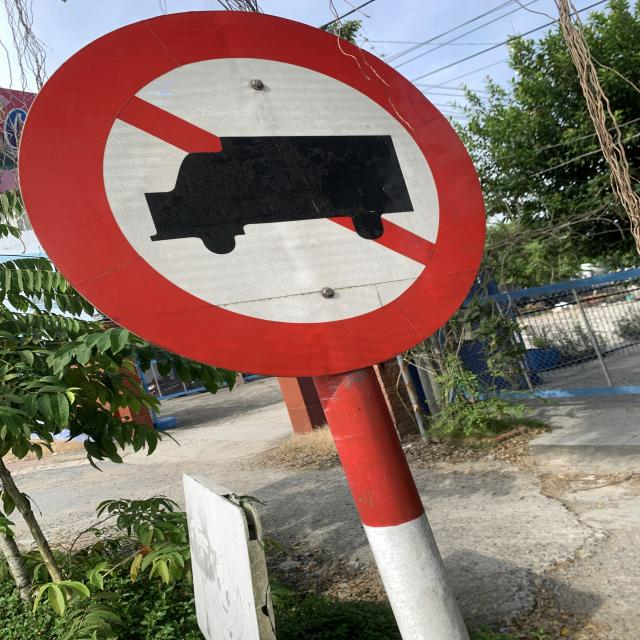Cam_Xe_Tai: (13, 8, 495, 380)
